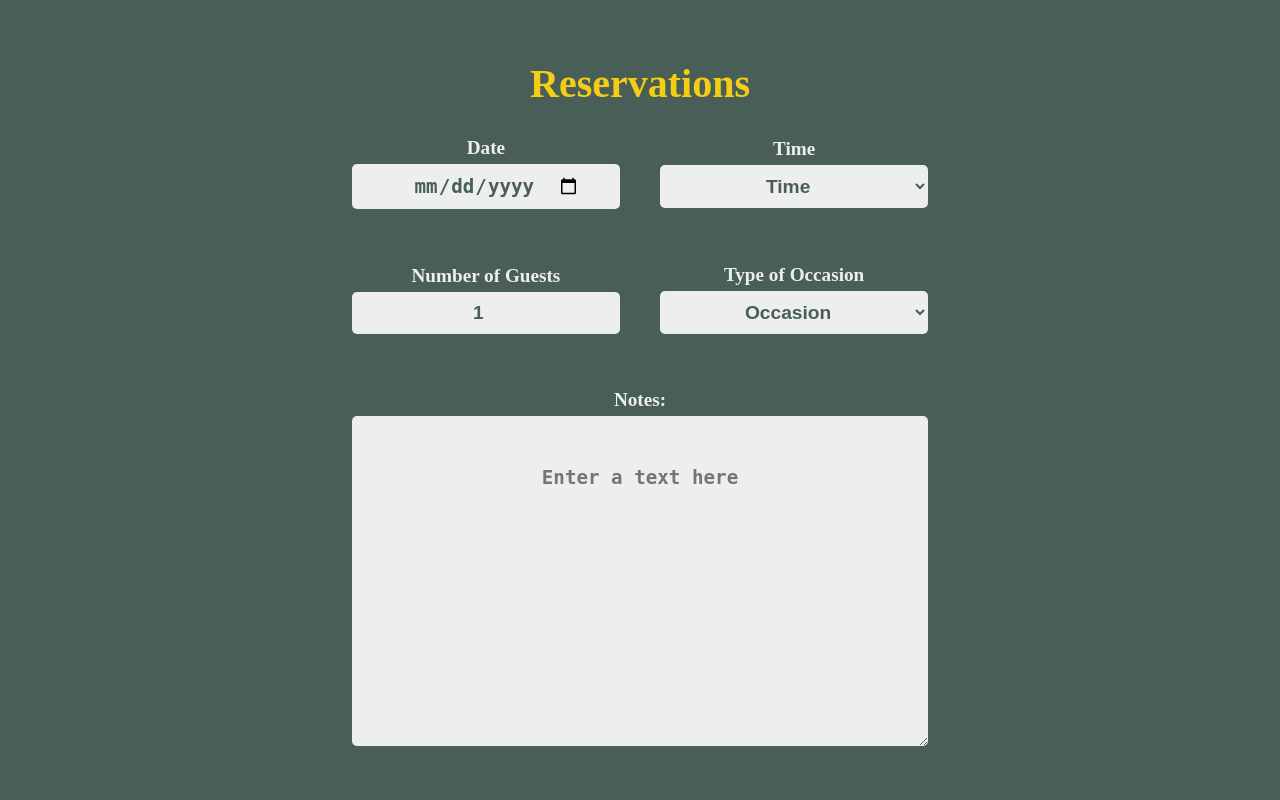
Scenario: BookingForm › submits form with correct data
The width and height of the screenshot is (1280, 800).
Note: Fill out the form
Type "2024-09-23" into the date field labelled "Date" at (486,186), box [352,164,620,209]
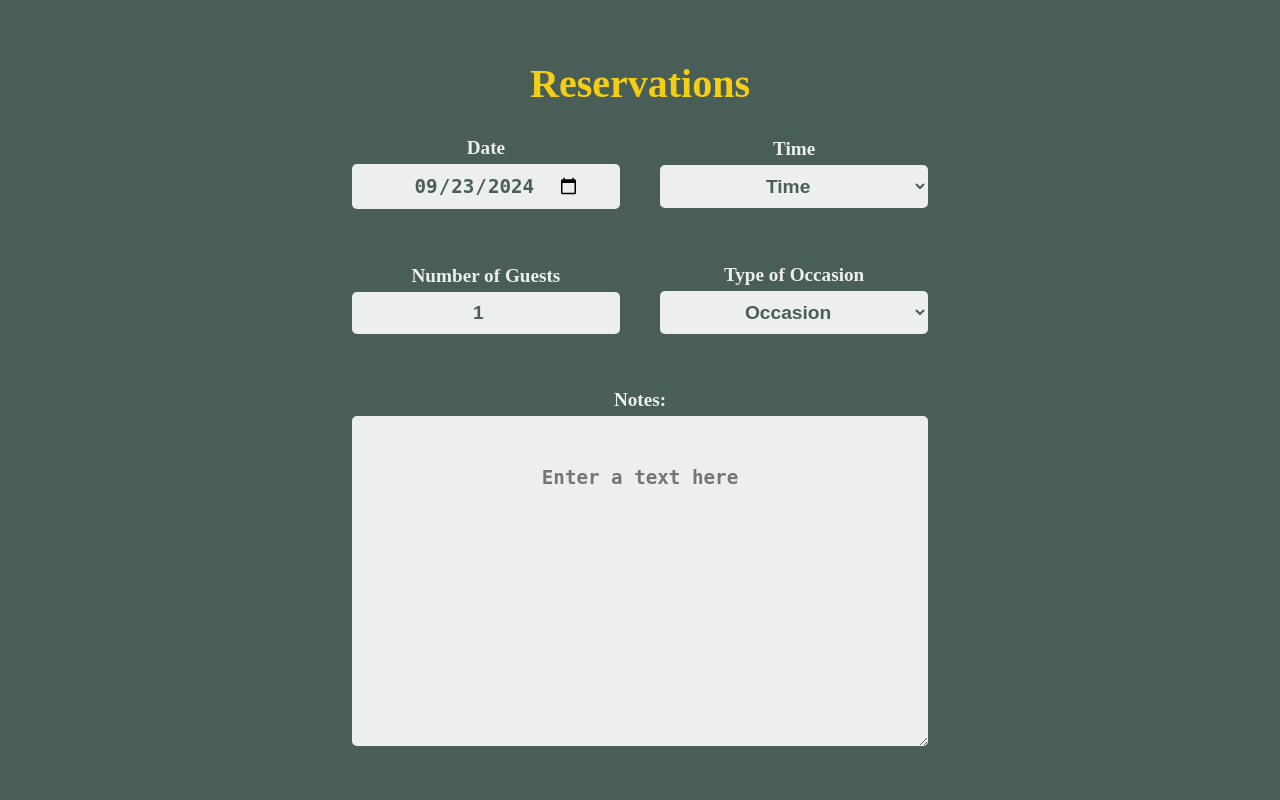
Select "17:00" in the dropdown labelled "Time" at (794,186), box [660,165,928,208]
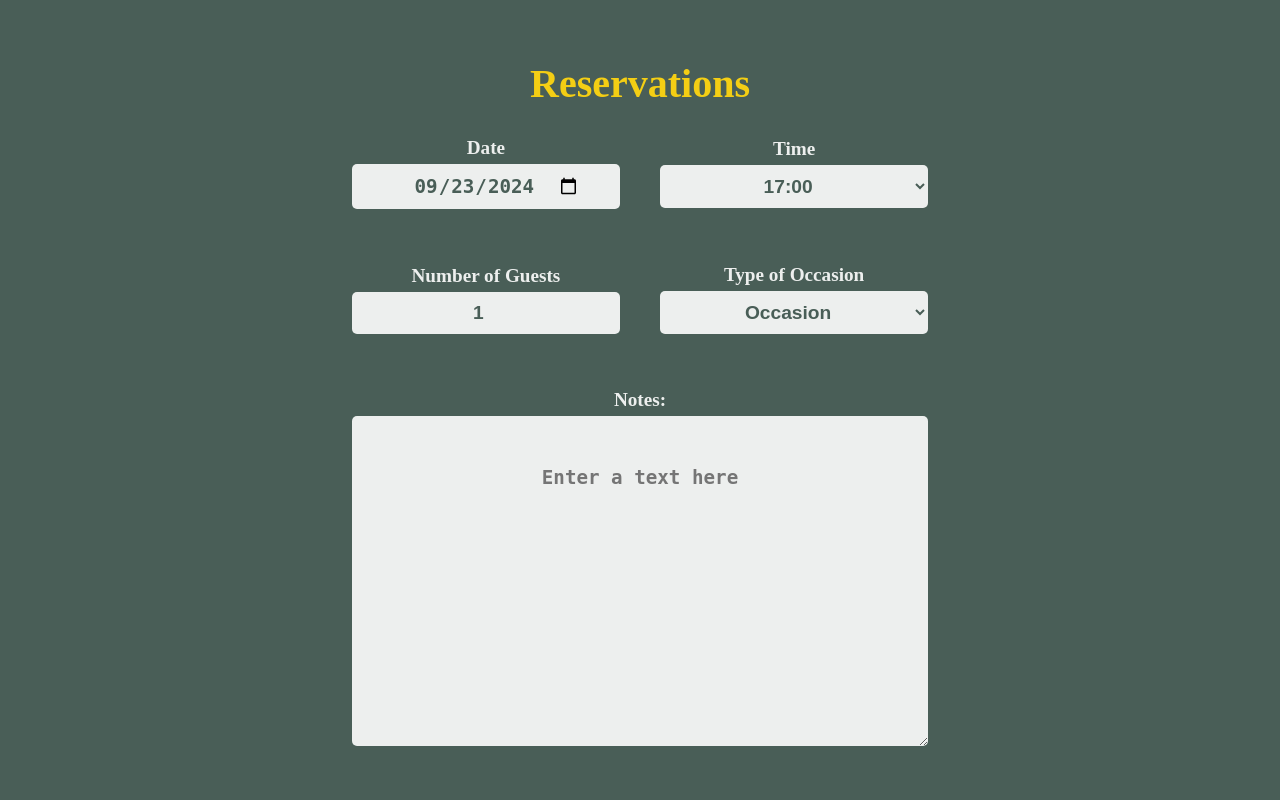
Type "2" into the number field labelled "Number of Guests" at (486,312), box [352,292,620,334]
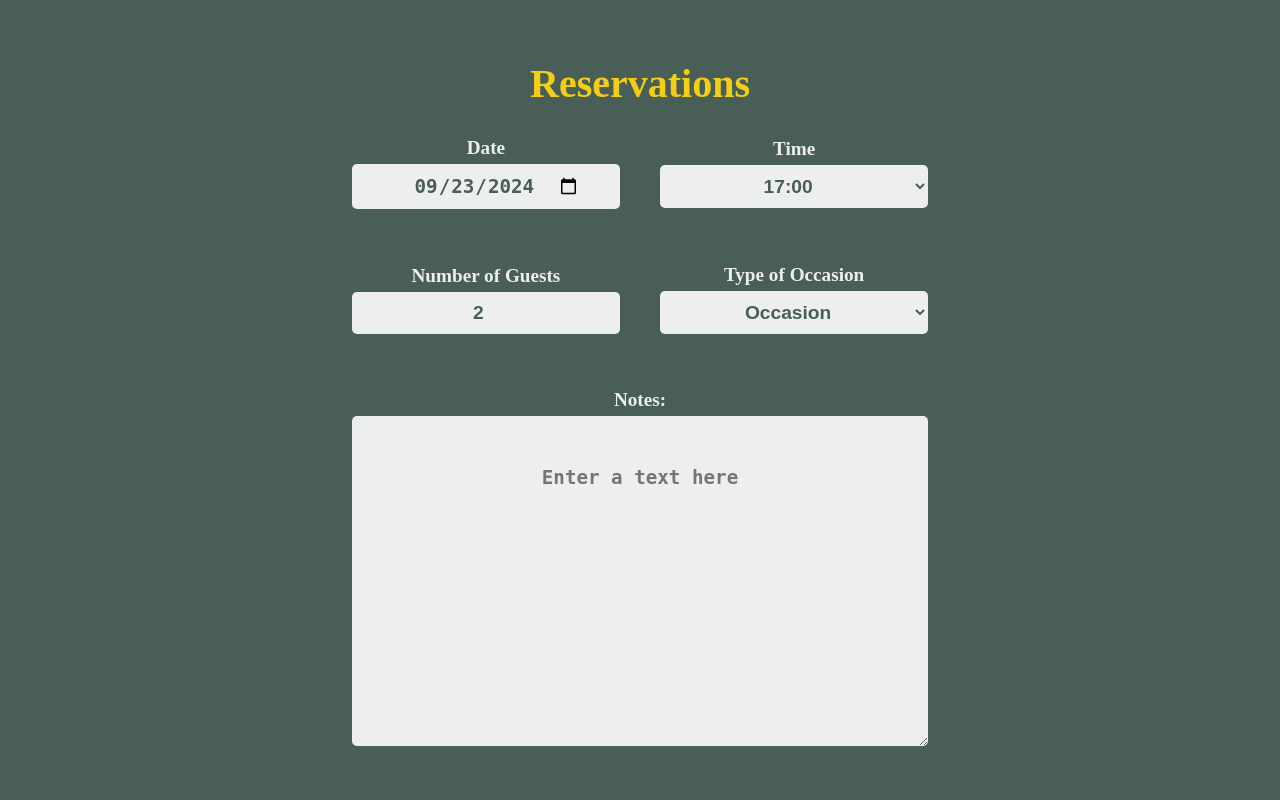
Select "Birthday" in the dropdown labelled "Type of Occasion" at (794,312), box [660,291,928,334]
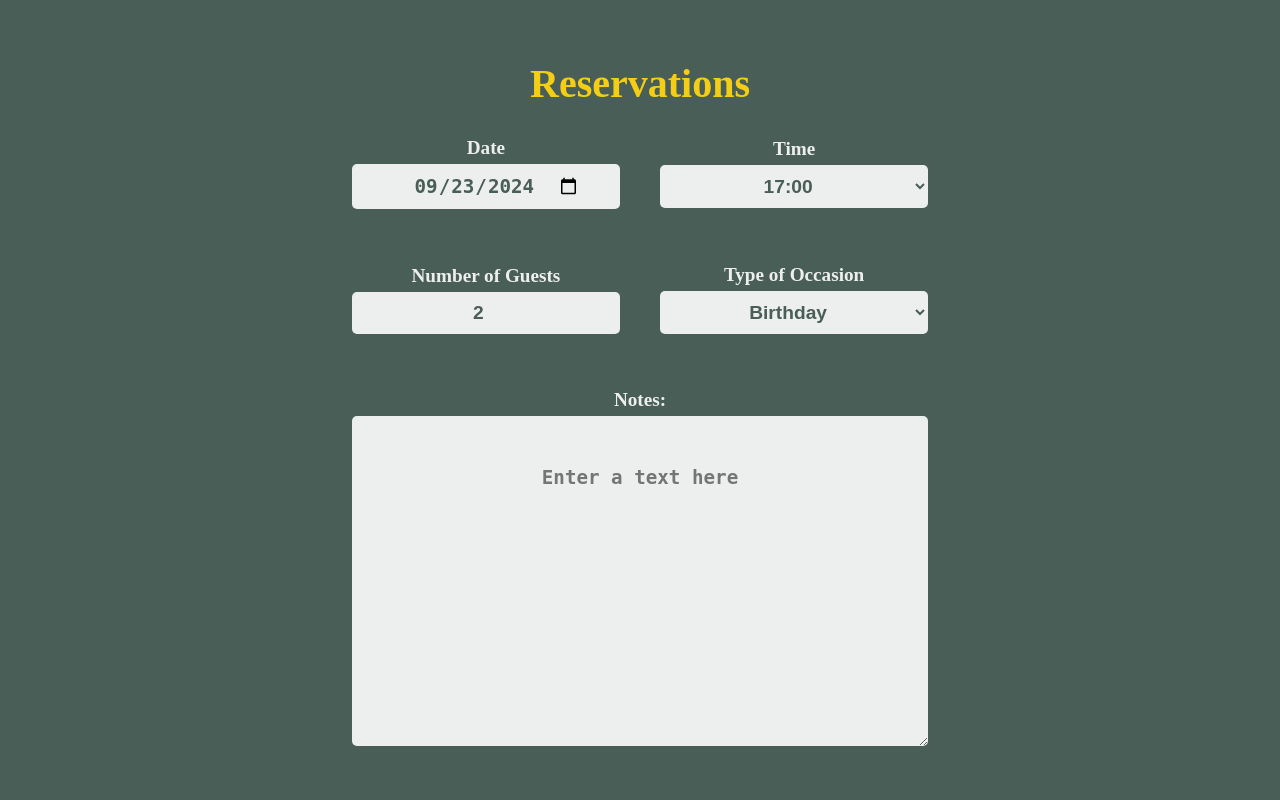
Type "Celebrating with friends!" into the text box labelled "Notes:" at (640,581), box [352,416,928,746]
(page scrolled)
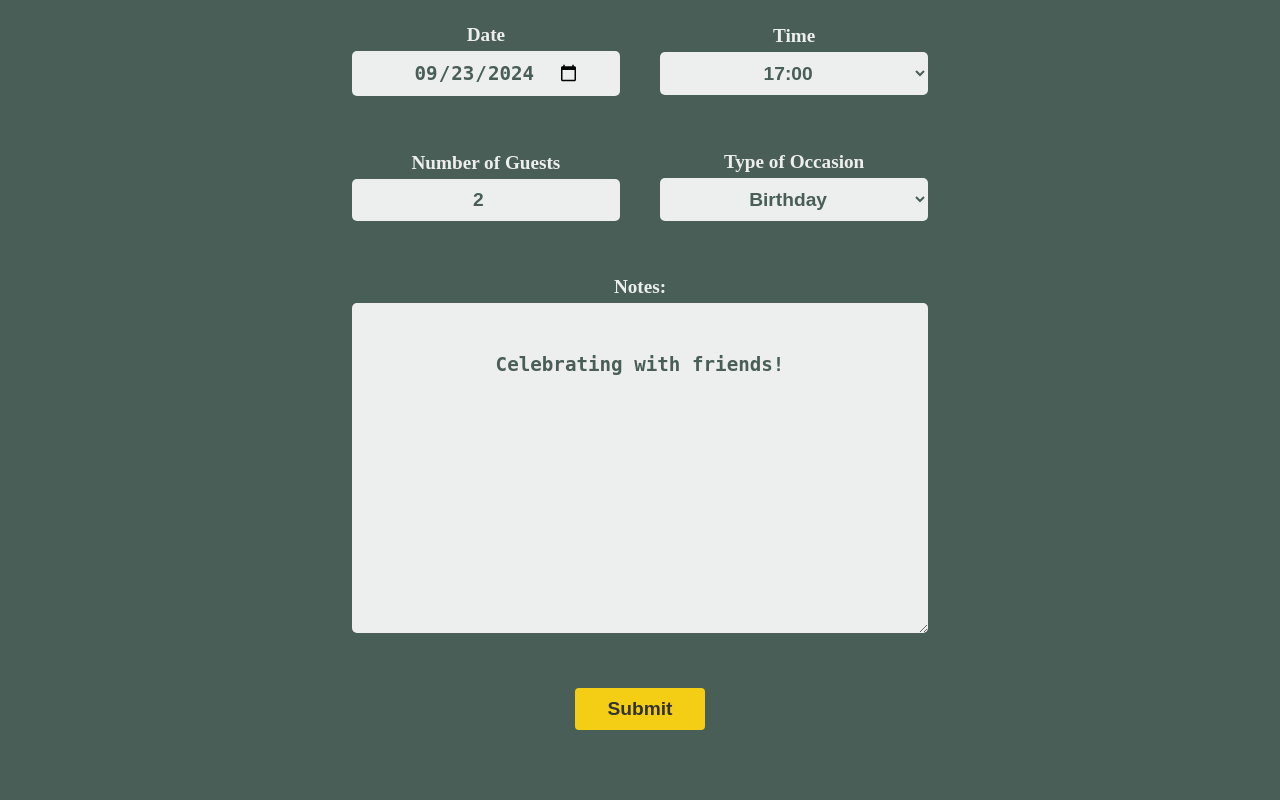
Note: Submit the form
Click the button named "submit" at (640,709), box [575,688,705,730]
(page scrolled)
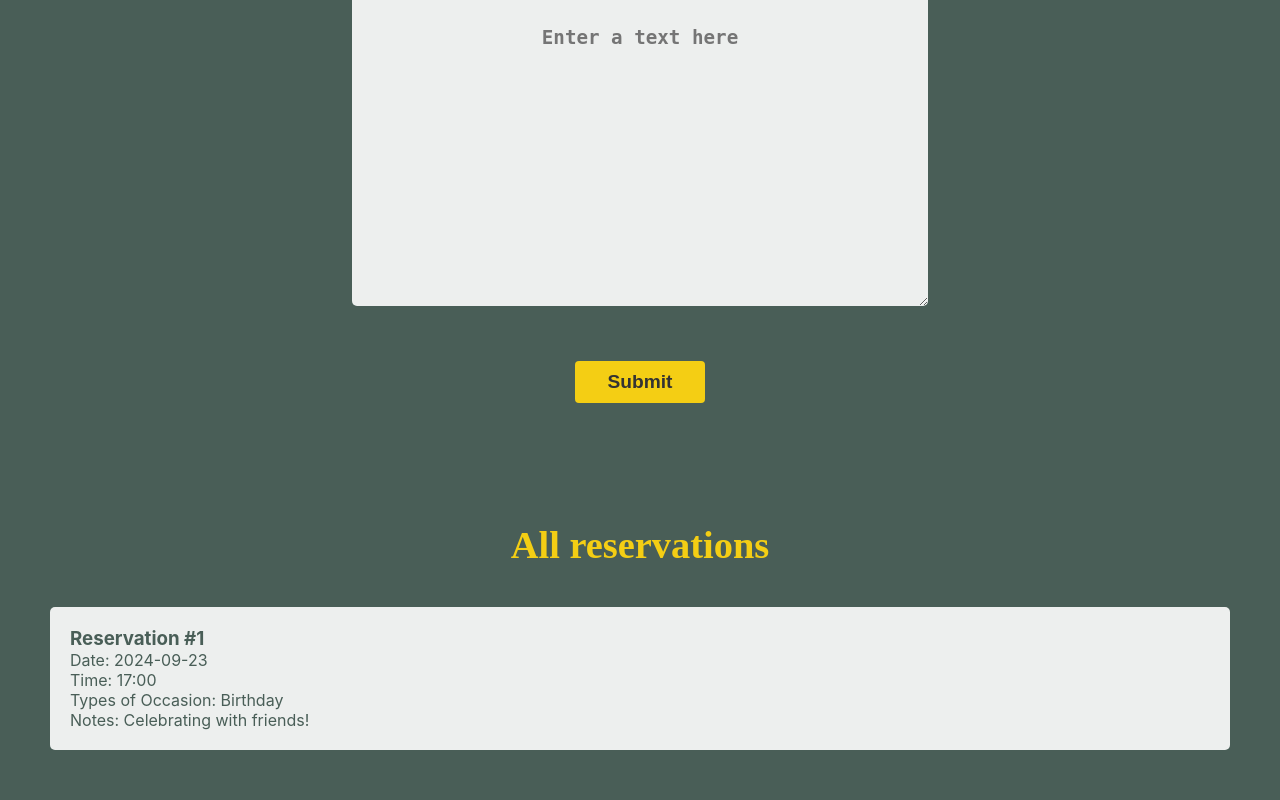
Check: the heading "Reservation #1" is shown, box [70,627,204,650]
Check: the text "Date: 2024-09-23" is shown, box [70,650,208,670]
Check: the text "Time: 17:00" is shown, box [70,670,156,690]
